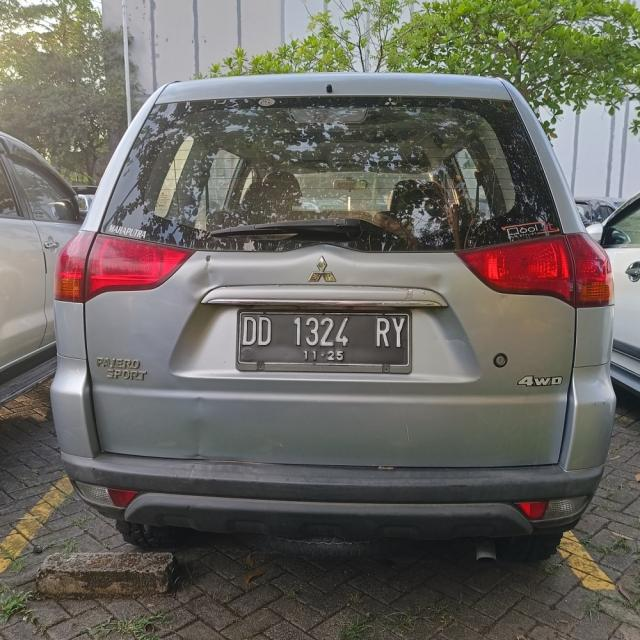plates: (236, 309, 409, 372)
